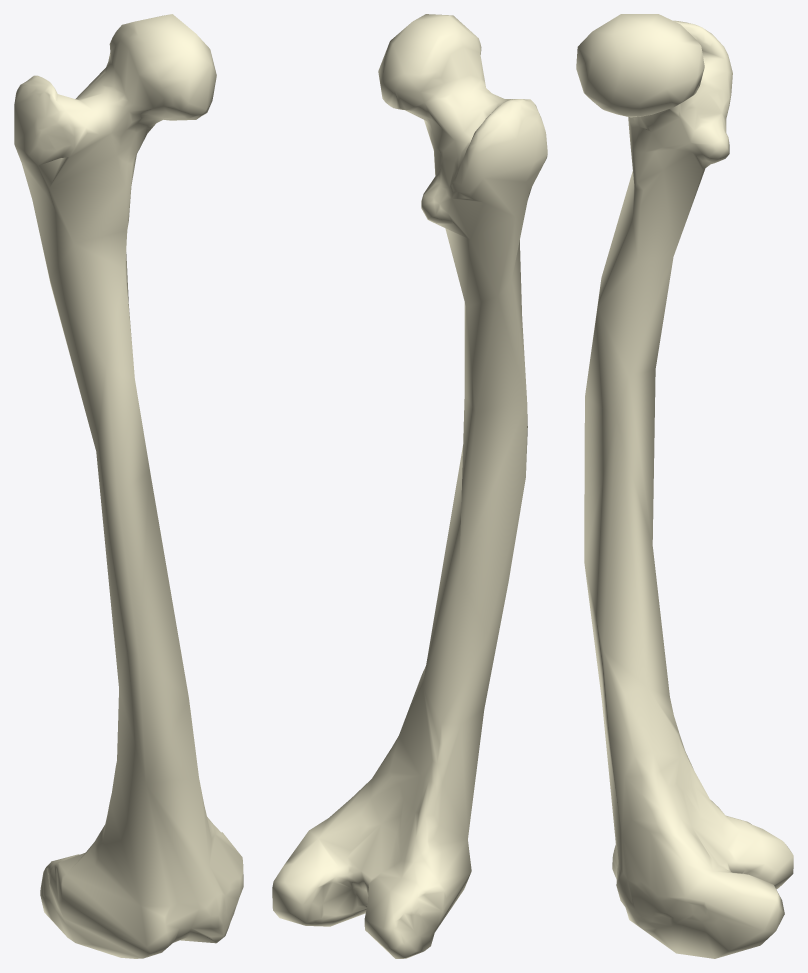
File: gutou01.FBX
3 renders of one model, left to right at view 1: azimuth 30°, elevation 25°; view 2: azimuth 150°, elevation 25°; view 3: azimuth 270°, elevation 25°, orthographic. The views are drawn at different scales.
Parts seen in each view (by area): view 1: Femur; view 2: Femur; view 3: Femur.
Part boxes in pixels (x1=…): Femur: x1=14, y1=14, x2=243, y2=958; Femur: x1=272, y1=14, x2=547, y2=958; Femur: x1=576, y1=14, x2=793, y2=958.
Size of the model in its own units: 76.01 by 292 by 64.09.
